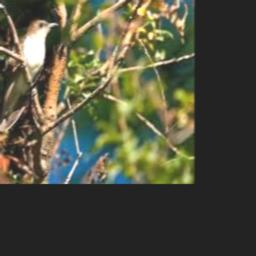Cuckoo: (0, 20, 58, 164)
